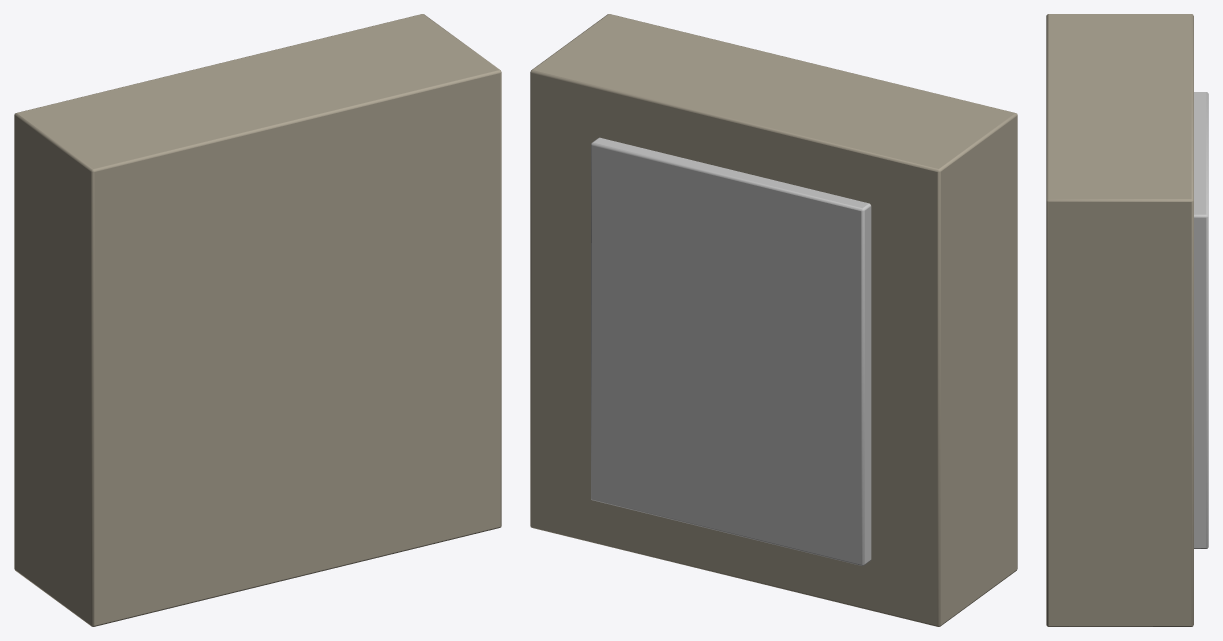
Rendered from SM_EQP_LIGHT_ARMOR_VEST.fbx.
3 renders of one model, left to right at view 1: azimuth 30°, elevation 25°; view 2: azimuth 150°, elevation 25°; view 3: azimuth 270°, elevation 25°, orthographic. The views are drawn at different scales.
Visible parts, largest first — view 1: SM_EQP_LIGHT_ARMOR_VEST; view 2: SM_EQP_LIGHT_ARMOR_VEST; view 3: SM_EQP_LIGHT_ARMOR_VEST.
Boxes of the visible parts, left/top/right/bottom form: SM_EQP_LIGHT_ARMOR_VEST: left=14, top=14, right=501, bottom=626; SM_EQP_LIGHT_ARMOR_VEST: left=530, top=14, right=1017, bottom=626; SM_EQP_LIGHT_ARMOR_VEST: left=1046, top=14, right=1208, bottom=626.
Size of what is drawn, in the model's own units: 0.3 by 0.32 by 0.11.
